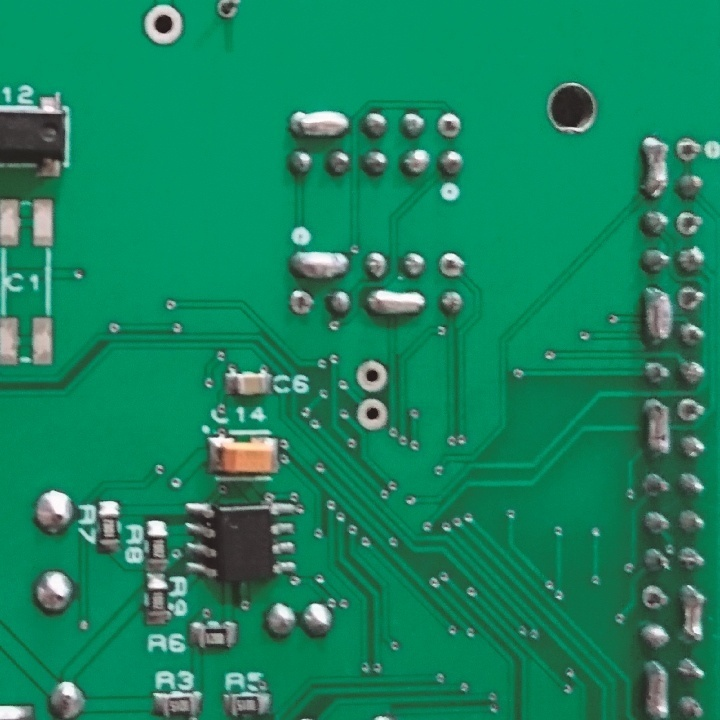F: (142, 2, 185, 48), (353, 357, 395, 393), (353, 392, 388, 434), (673, 134, 705, 164), (285, 286, 316, 316), (676, 209, 706, 239), (677, 282, 707, 312), (433, 111, 464, 140), (675, 396, 707, 423), (642, 584, 670, 613), (439, 249, 466, 278), (214, 1, 243, 21)
P: (285, 106, 349, 140), (641, 394, 673, 462), (368, 283, 425, 319), (641, 282, 673, 346), (290, 246, 350, 278), (679, 578, 706, 649), (641, 134, 669, 198), (642, 658, 669, 720)
